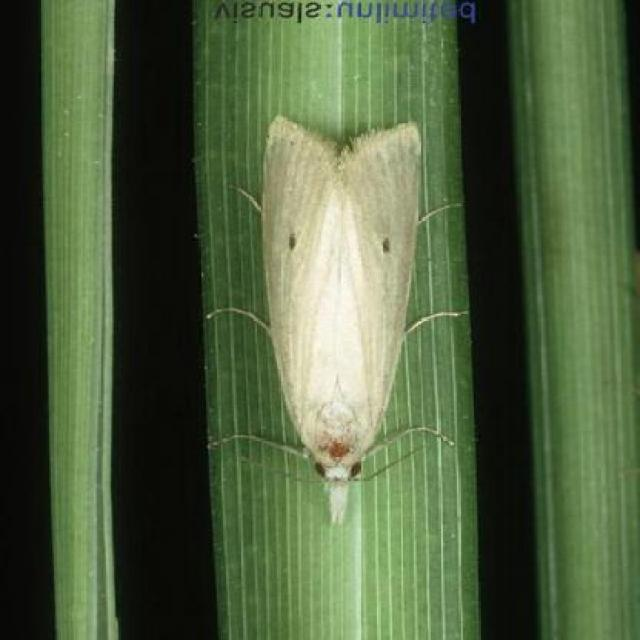stem-borer: (229, 112, 429, 531)
